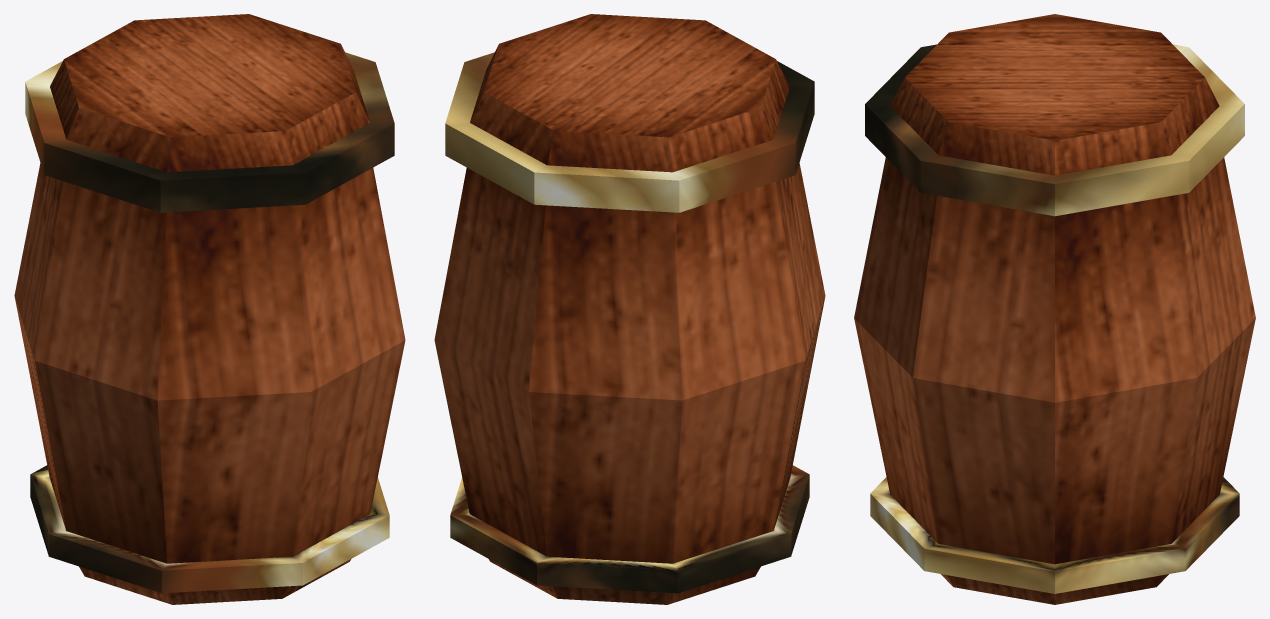
Rendered from Barrel.fbx.
3 renders of one model, left to right at view 1: azimuth 30°, elevation 25°; view 2: azimuth 150°, elevation 25°; view 3: azimuth 270°, elevation 25°, orthographic.
Parts seen in each view (by area): view 1: Barrel; view 2: Barrel; view 3: Barrel.
Boxes of the visible parts, <box> form: Barrel: <box>14,14,405,604</box>; Barrel: <box>434,14,825,604</box>; Barrel: <box>854,14,1255,604</box>.
Size of the model in its own units: 244 by 313 by 244.
